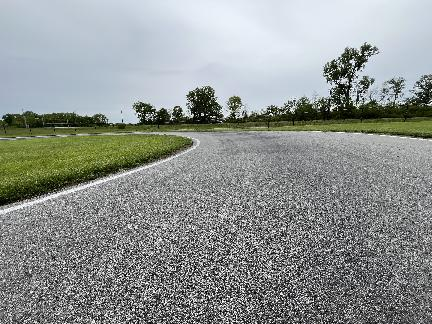Grass: (0, 135, 191, 204), (200, 122, 431, 137), (77, 122, 246, 133)
Lane: (0, 132, 431, 323)
